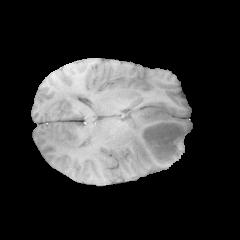glioma: (123, 104, 190, 167)
